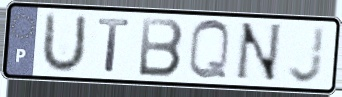B: (136, 15, 186, 80)
J: (285, 24, 328, 86)
N: (231, 21, 285, 84)
Q: (186, 17, 233, 84)
T: (96, 16, 133, 75)
U: (38, 10, 89, 75)
